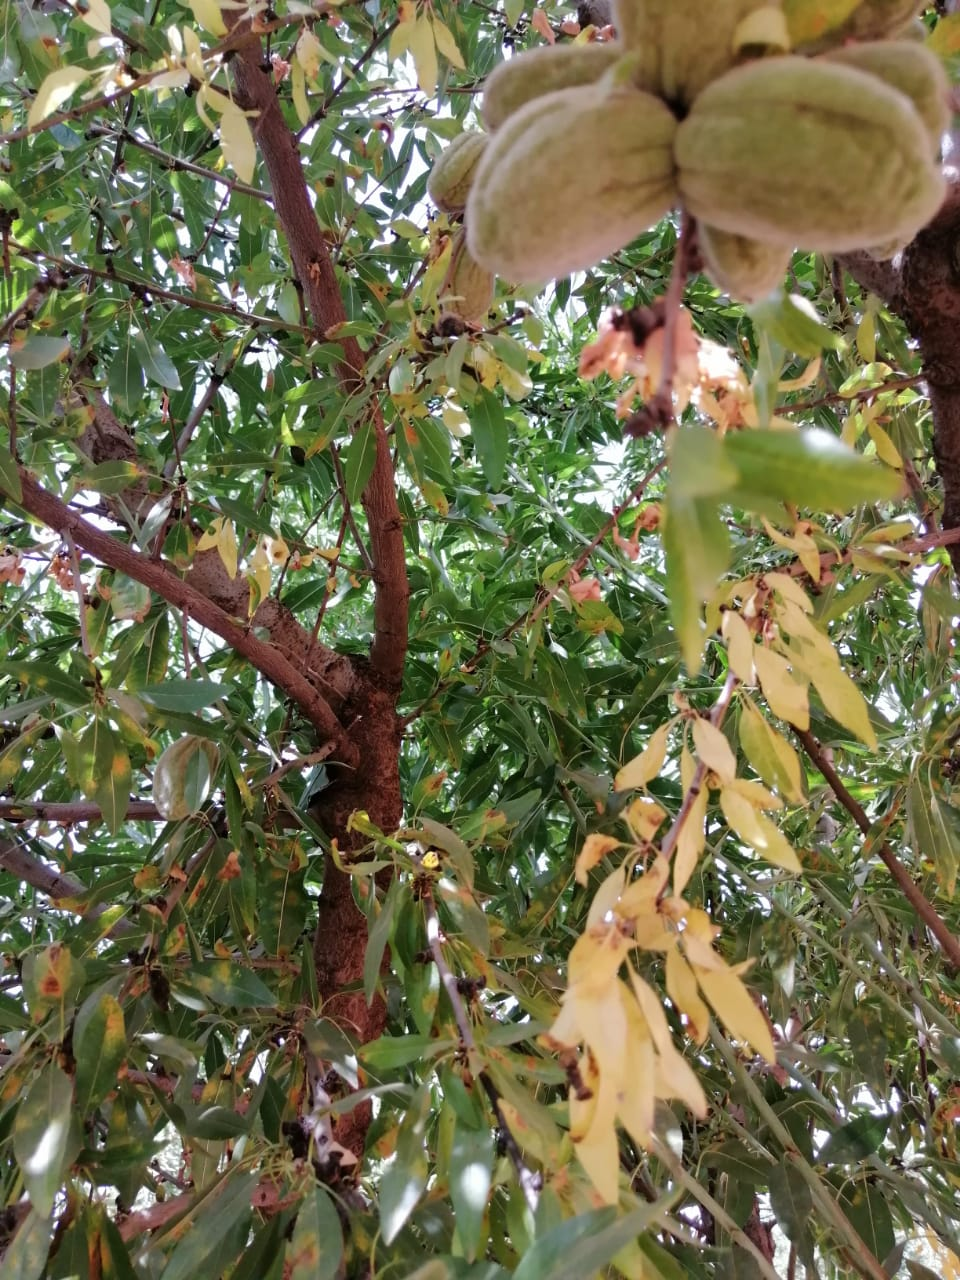chancre fusicocum: (546, 540, 871, 1171)
